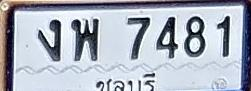1: (216, 15, 230, 57)
4: (156, 16, 177, 58)
7: (126, 17, 150, 60)
8: (184, 15, 205, 56)
A07: (37, 19, 61, 61)
A30: (70, 18, 98, 61)
CBI: (92, 71, 163, 91)
